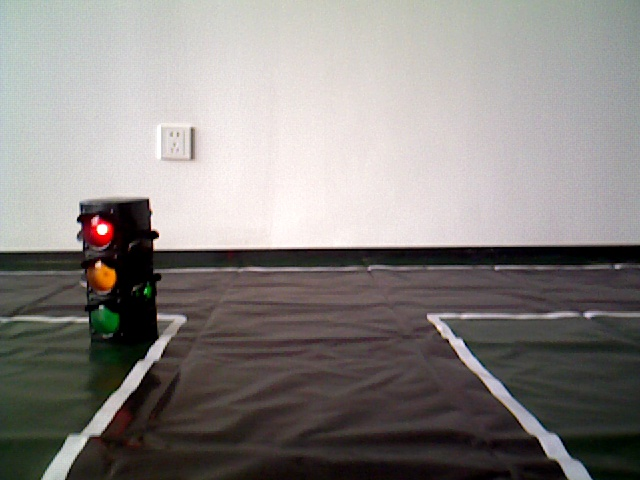red: (81, 201, 157, 342)
